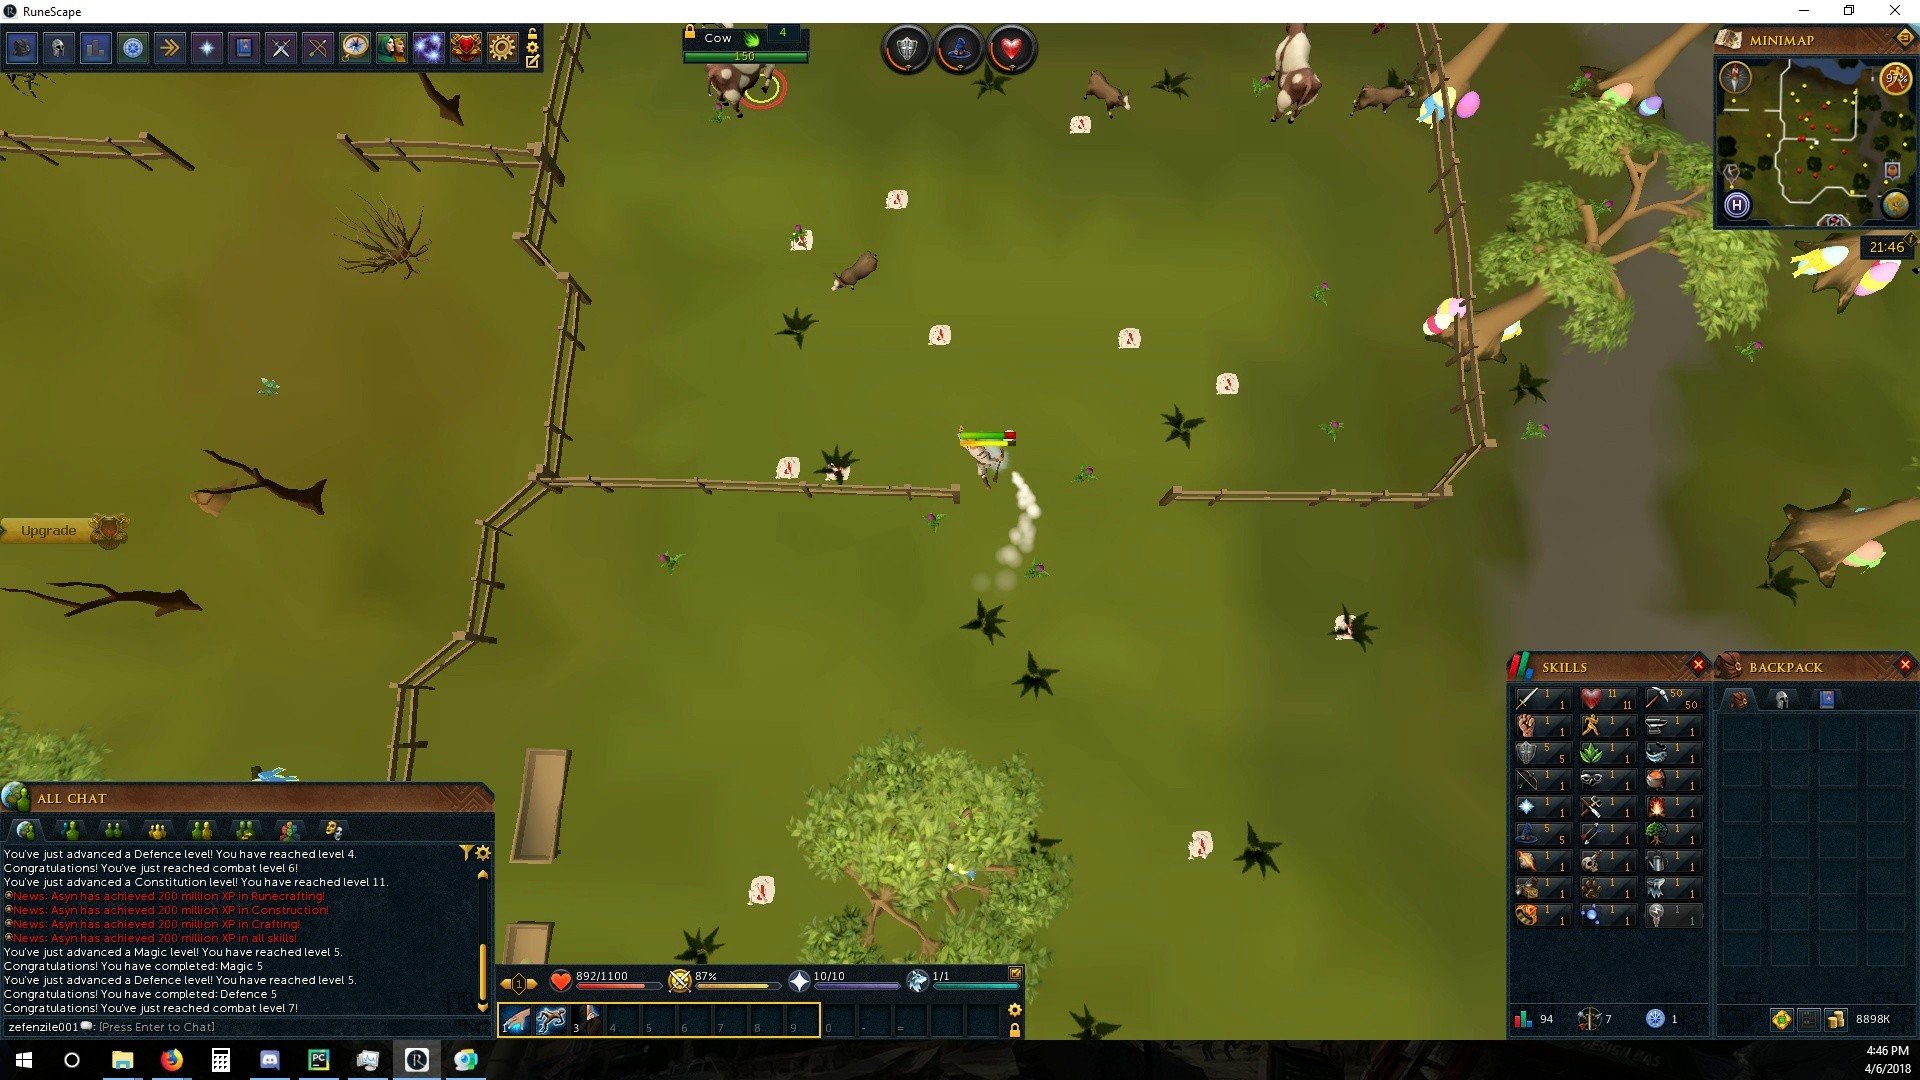calf: (1081, 70, 1134, 119), (827, 251, 882, 295)
cow: (1258, 21, 1327, 131)
cow_drop: (1182, 827, 1216, 861), (742, 874, 779, 905), (1211, 371, 1244, 401), (774, 450, 802, 483), (1113, 322, 1143, 349), (926, 320, 953, 348), (790, 224, 815, 255), (881, 186, 910, 211), (1064, 112, 1091, 138)
